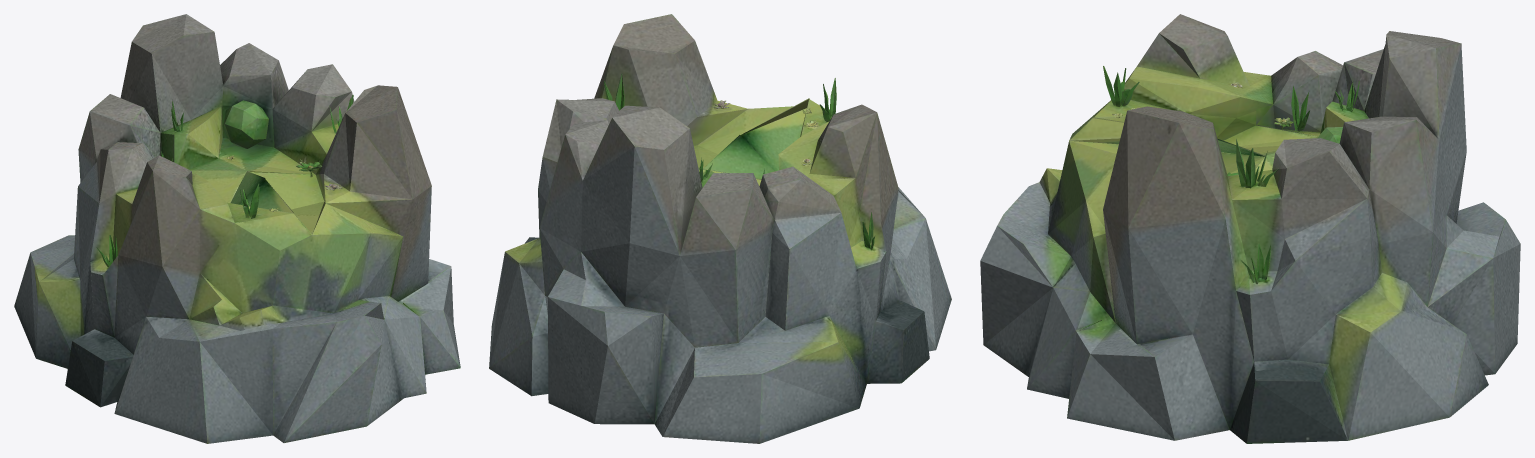
The model's file is rock_grass.glb.
The picture shows the model from 3 angles, left to right: view 1: azimuth 30°, elevation 25°; view 2: azimuth 150°, elevation 25°; view 3: azimuth 270°, elevation 25°; orthographic projection. The views are drawn at different scales.
Parts seen in each view (by area): view 1: tripo_node_bbff5949-ac7f-4b30-b675-e7ac54e3cfb3; view 2: tripo_node_bbff5949-ac7f-4b30-b675-e7ac54e3cfb3; view 3: tripo_node_bbff5949-ac7f-4b30-b675-e7ac54e3cfb3.
Boxes of the visible parts, box(x1,y1,x2,y2) form: tripo_node_bbff5949-ac7f-4b30-b675-e7ac54e3cfb3: box(14, 14, 460, 443); tripo_node_bbff5949-ac7f-4b30-b675-e7ac54e3cfb3: box(489, 14, 951, 443); tripo_node_bbff5949-ac7f-4b30-b675-e7ac54e3cfb3: box(980, 14, 1520, 443).
Bounding box in the file's own units: 0.8848 × 0.623 × 0.998.
Materials: 1 (1 with a texture image).
